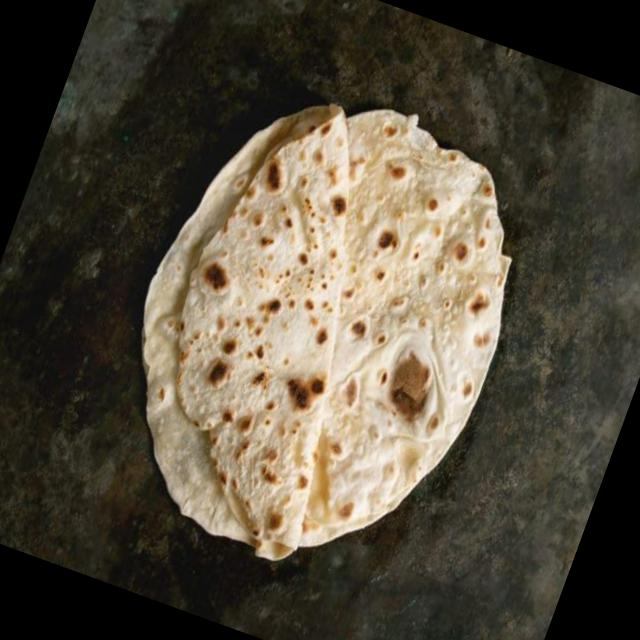roti: (134, 89, 513, 563)
